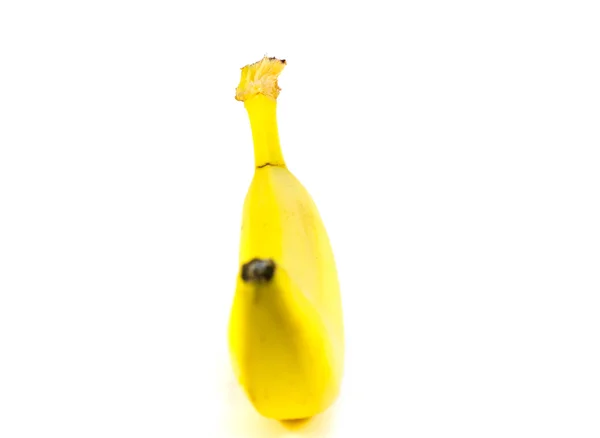banana: (123, 53, 432, 428)
